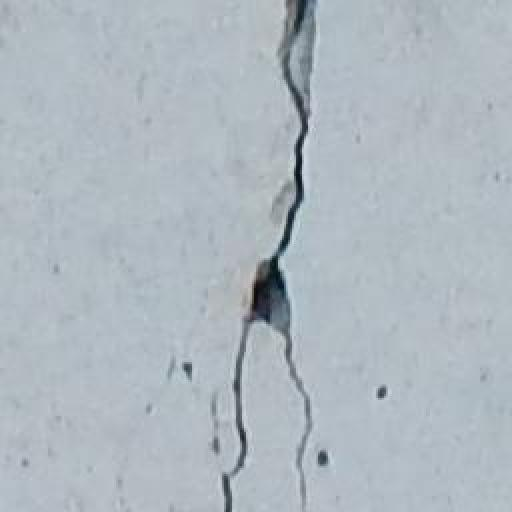spalling: (200, 3, 328, 512)
